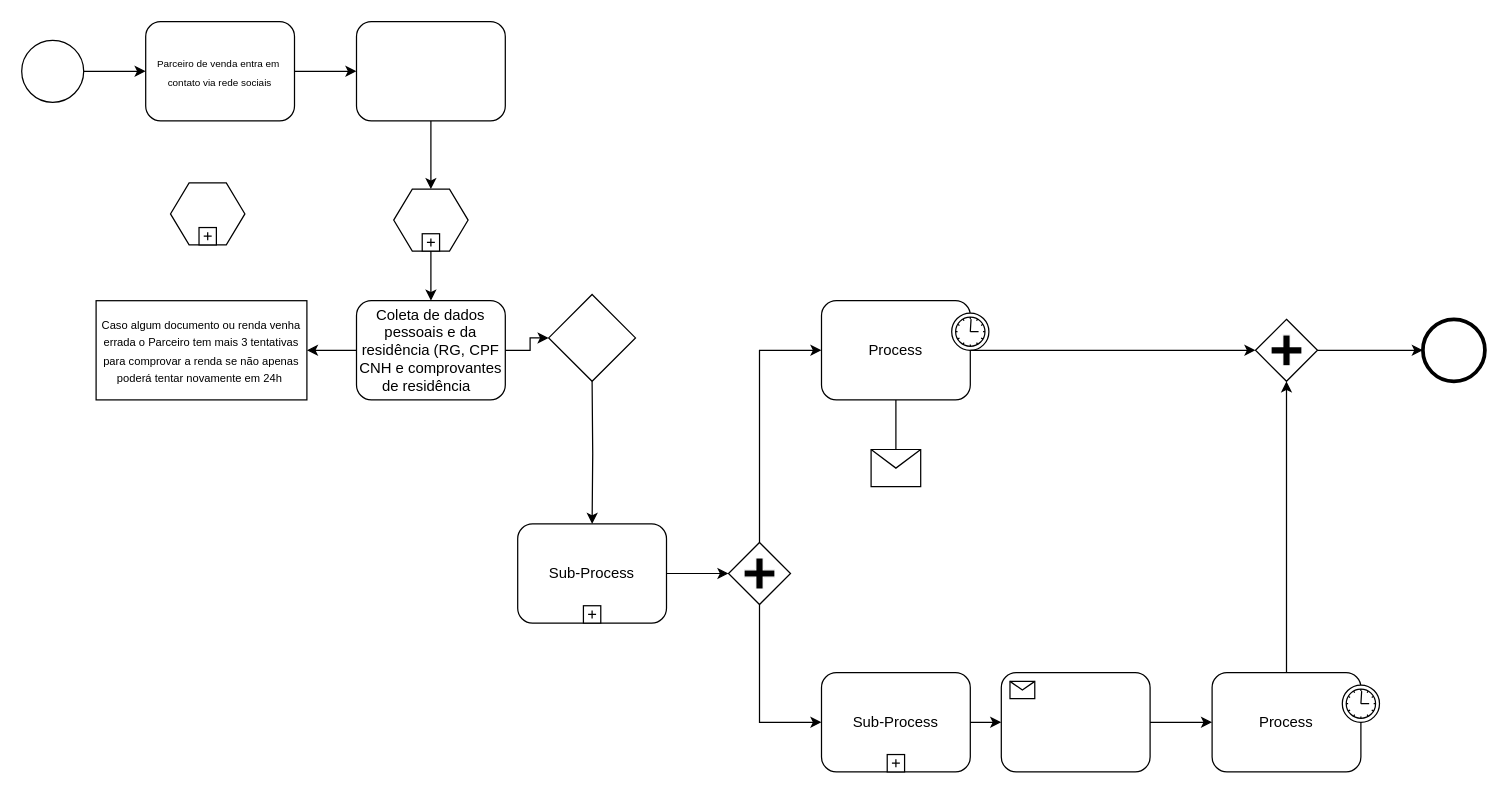
The diagram is 1507 pixels wide and 794 high, and some of its shapes have lost their labels. Each missing label, with the box of its shape:
Checagem interna: (392, 188, 468, 251)
Encerramento de cadastro: (169, 182, 245, 245)
Levado ao cadastramento no aplicativo: (355, 20, 505, 121)
Receive: (1000, 671, 1150, 772)
